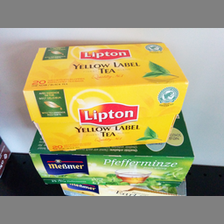tea: (23, 41, 188, 152)
